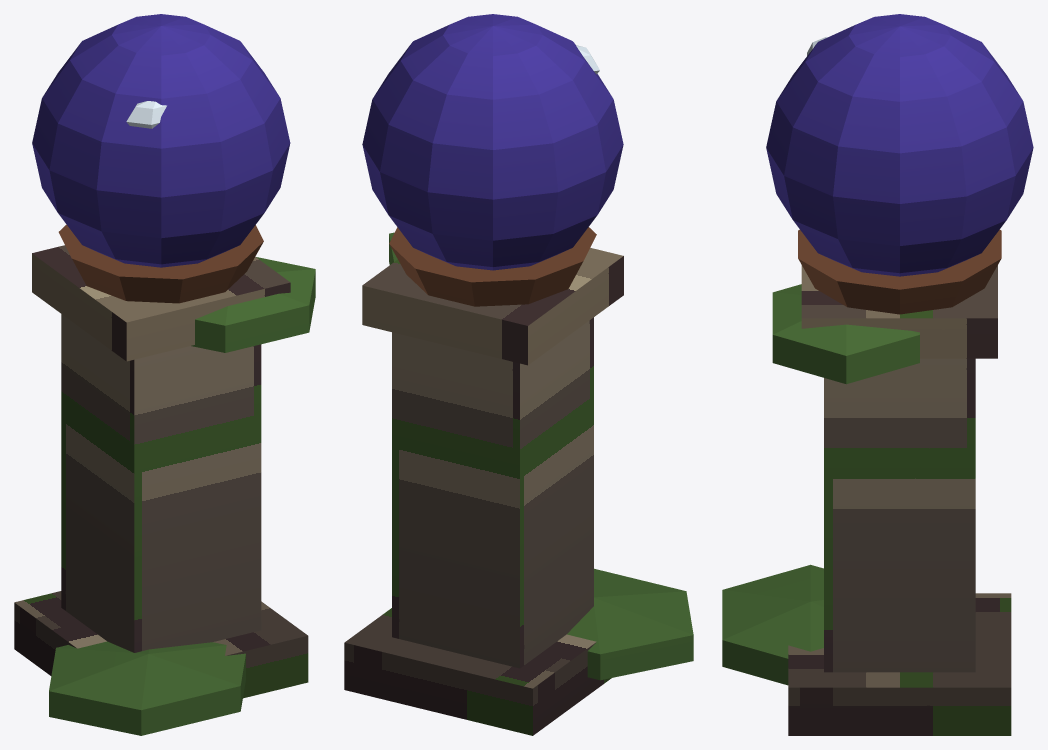
File: orb_garden_violet.glb
3 renders of one model, left to right at view 1: azimuth 30°, elevation 25°; view 2: azimuth 150°, elevation 25°; view 3: azimuth 270°, elevation 25°, orthographic. The views are drawn at different scales.
Visible parts, largest first — view 1: orb_garden_violet; view 2: orb_garden_violet; view 3: orb_garden_violet.
Boxes of the visible parts, box(x1,y1,x2,y2) form: orb_garden_violet: box(14, 14, 315, 735); orb_garden_violet: box(344, 14, 693, 735); orb_garden_violet: box(722, 14, 1033, 735).
Size of the model in its own units: 0.7619 by 1.64 by 0.698.
3 materials, 1 textured.
